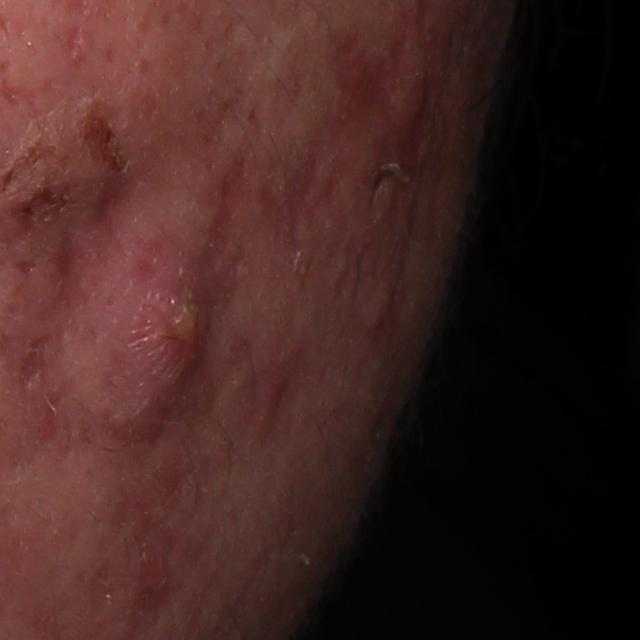nodule: (61, 173, 229, 450)
